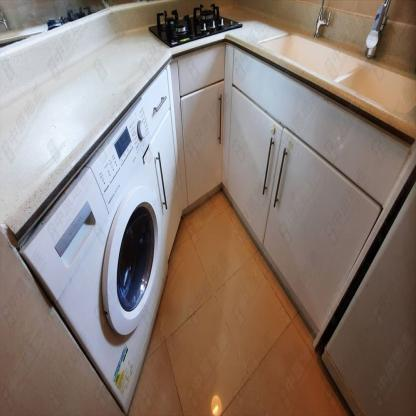Cupboard: (168, 42, 412, 338)
Sink: (260, 32, 414, 117)
Stove: (146, 1, 245, 47)
Washing Machine: (23, 98, 168, 413)
